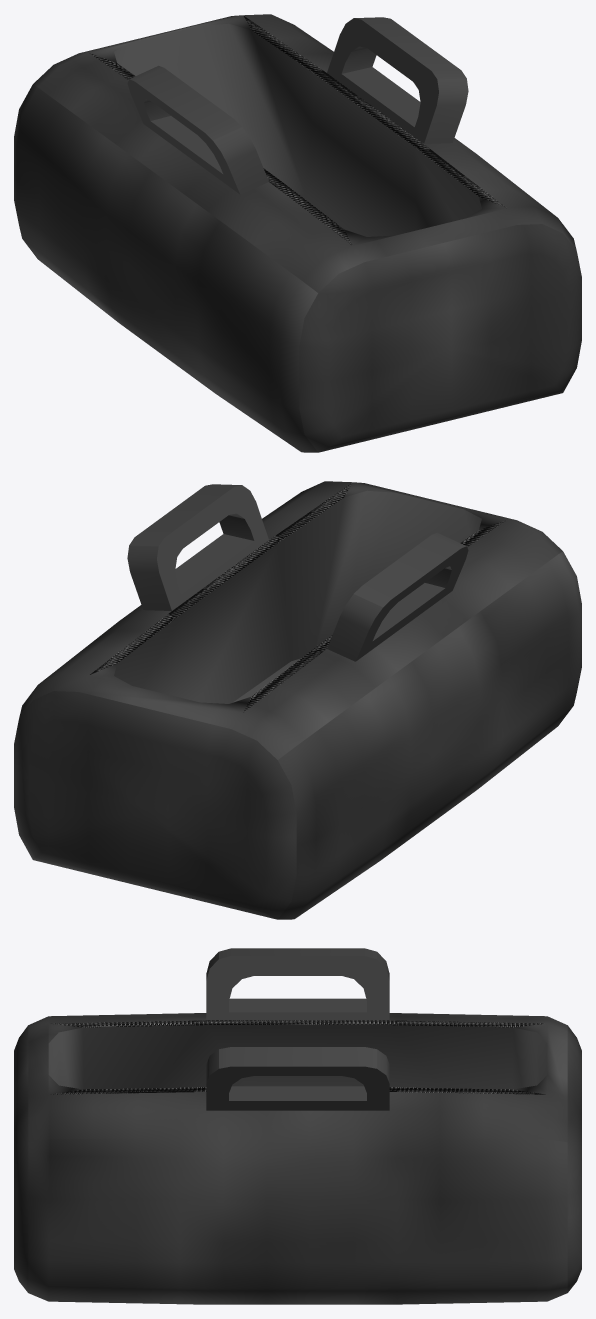
Rendered from Duffle_Open.fbx.
The picture shows the model from 3 angles, top to bottom: view 1: azimuth 30°, elevation 25°; view 2: azimuth 150°, elevation 25°; view 3: azimuth 270°, elevation 25°; orthographic projection. The views are drawn at different scales.
Visible parts, largest first — view 1: Duffle_Open; view 2: Duffle_Open; view 3: Duffle_Open.
Part boxes in pixels (x1,y1,x2,y2): Duffle_Open: [14, 14, 581, 452]; Duffle_Open: [14, 481, 581, 919]; Duffle_Open: [14, 948, 581, 1304].
Bounding box in the file's own units: 29.92 × 24.14 × 51.09.
Materials: 3 (2 with a texture image).
